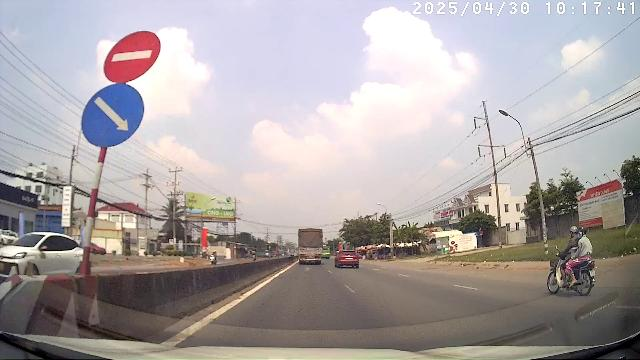102-cam-di-nguoc-chieu: (103, 30, 161, 82)
302a-huong-phai-di-vong-chuong-ngai-vat-1: (82, 85, 144, 148)
